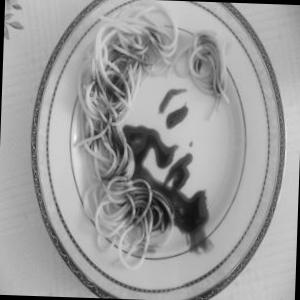pasta: (49, 5, 260, 274)
